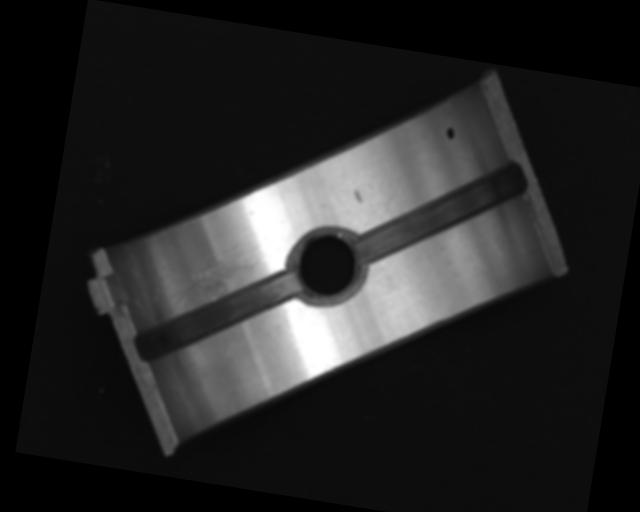blot: (444, 126, 456, 142)
bruise: (351, 189, 364, 204)
gap: (358, 143, 523, 284), (135, 250, 300, 386)
hole: (284, 222, 370, 311)
scratch: (168, 244, 264, 321)
